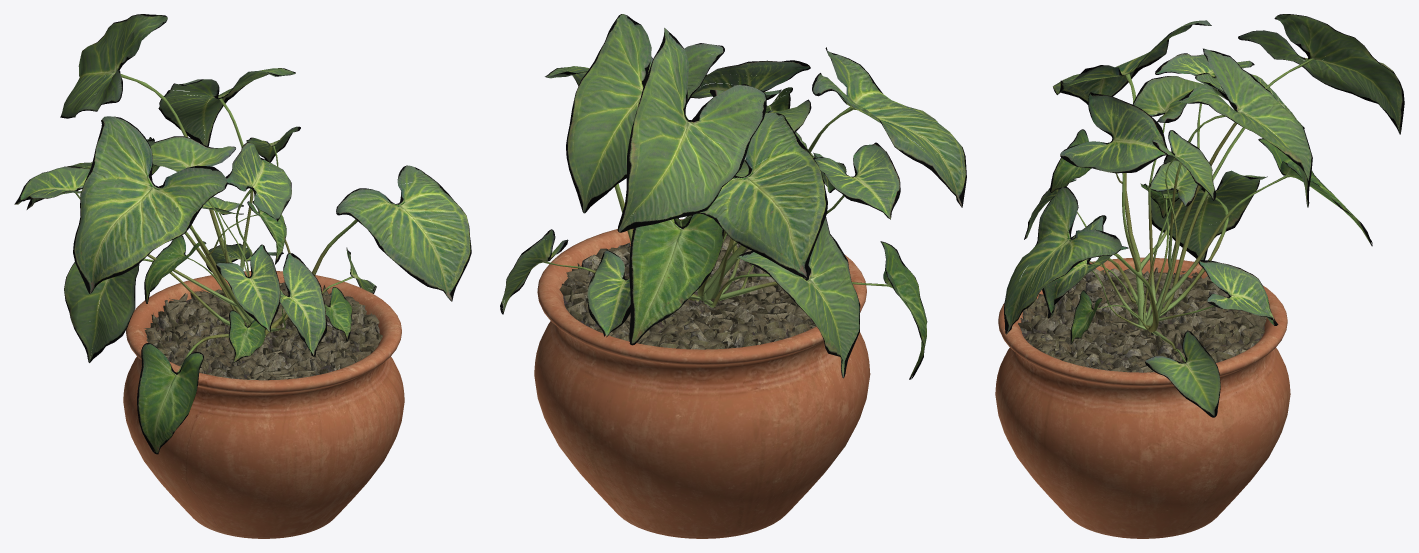
File: web.glb
3 views of the same model, side by side, from view 1: azimuth 30°, elevation 25°; view 2: azimuth 150°, elevation 25°; view 3: azimuth 270°, elevation 25° (orthographic). The views are drawn at different scales.
Parts seen in each view (by area): view 1: potted_plant_02_leaves, potted_plant_02_pot, potted_plant_02_dirt; view 2: potted_plant_02_leaves, potted_plant_02_pot, potted_plant_02_dirt; view 3: potted_plant_02_leaves, potted_plant_02_pot, potted_plant_02_dirt.
Boxes of the visible parts, box(x1,y1,x2,y2) form: potted_plant_02_leaves: box(14, 14, 471, 454); potted_plant_02_pot: box(123, 271, 404, 538); potted_plant_02_dirt: box(144, 282, 382, 380); potted_plant_02_leaves: box(500, 14, 966, 379); potted_plant_02_pot: box(534, 219, 870, 538); potted_plant_02_dirt: box(559, 234, 816, 349); potted_plant_02_leaves: box(1004, 14, 1404, 417); potted_plant_02_pot: box(995, 257, 1290, 538); potted_plant_02_dirt: box(1018, 267, 1266, 372).
Size of the model in its own units: 0.701 by 0.8412 by 0.6574.
Materials: 2 (2 with a texture image).
